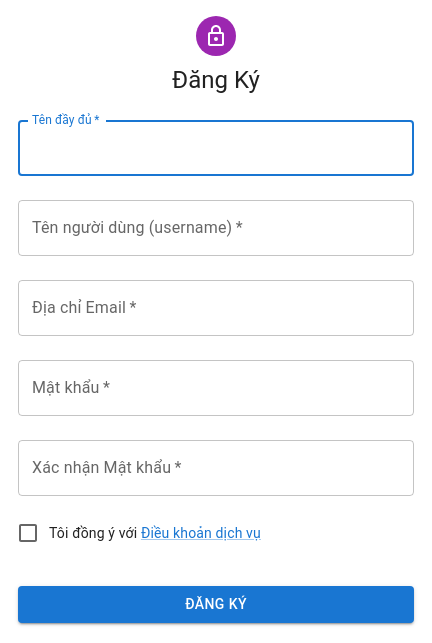
it: RegisterPage Component › shows error Alert on AuthService.register failure with a message
This screenshot has width=432, height=643.
In the field labelled "Tên đầy đủ *": x=216, y=148 [18,120,414,176], type "Test User"
In the field labelled "Tên người dùng (username) *": x=216, y=228 [18,200,414,256], type "testuser"
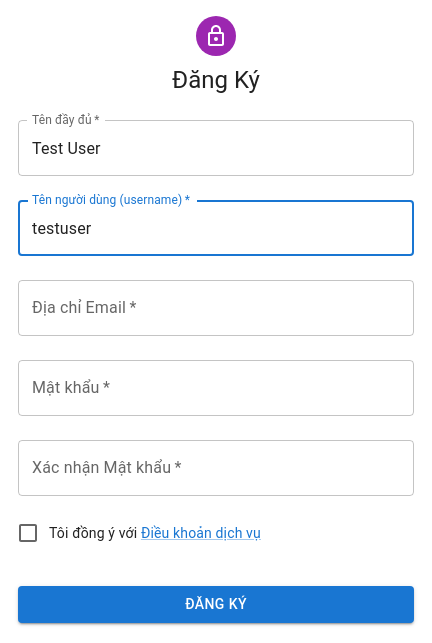
In the field labelled "Địa chỉ Email *": x=216, y=308 [18,280,414,336], type "test@example.com"
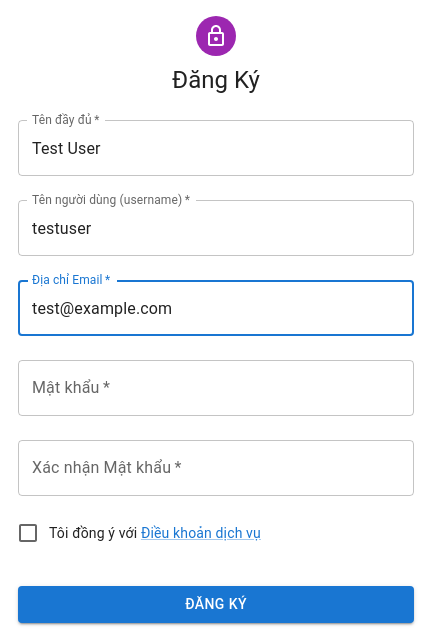
In the password field labelled "Mật khẩu *": x=216, y=388 [18,360,414,416], type "password123"
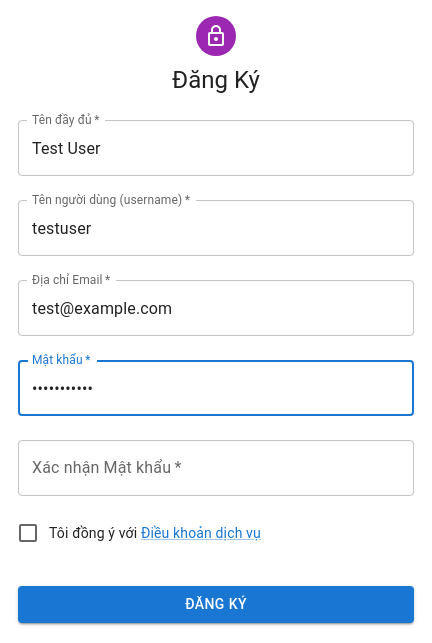
In the password field labelled "Xác nhận Mật khẩu *": x=216, y=468 [18,440,414,496], type "password123"
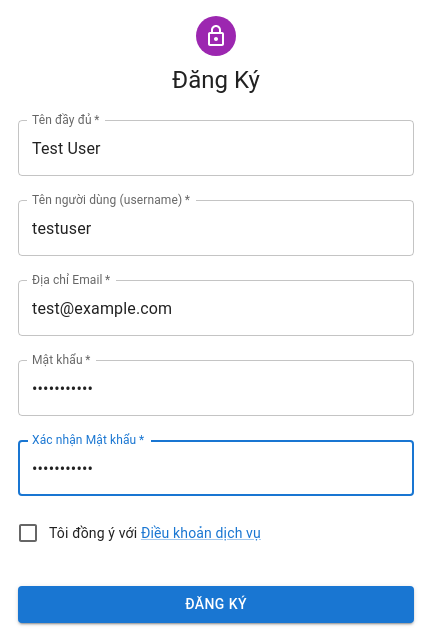
Click the checkbox labelled "Tôi đồng ý với Điều khoản dịch vụ": x=138, y=533 [16,521,261,545]
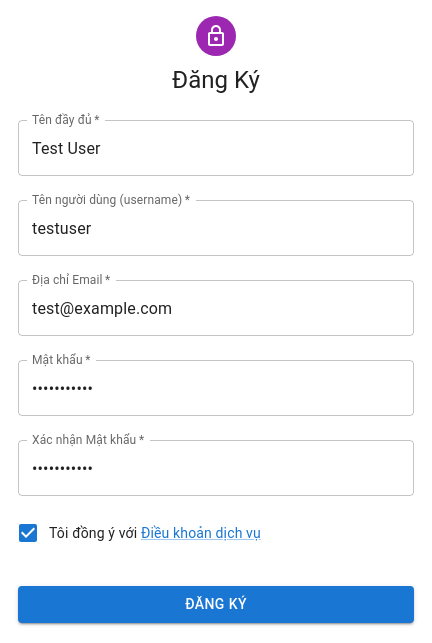
Click the button "Đăng Ký": x=216, y=604 [18,586,414,622]
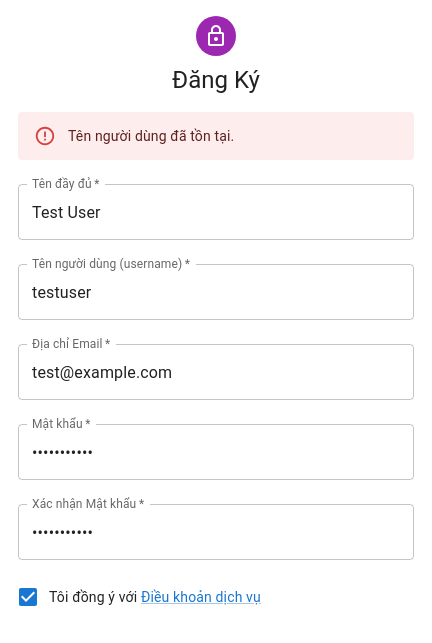
Check: the message reads "Tên người dùng đã tồn tại.", box [68,128,234,144]
